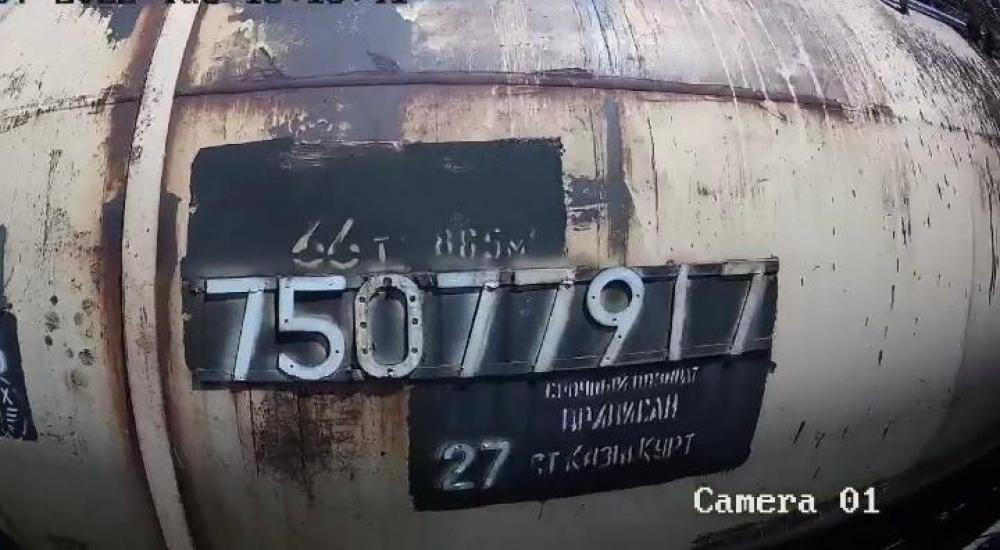Wagon-number: (194, 257, 772, 388)
